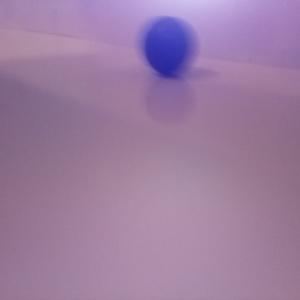dead_ball: (142, 15, 194, 75)
